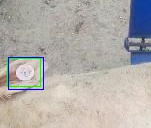text: (7, 58, 40, 86)
